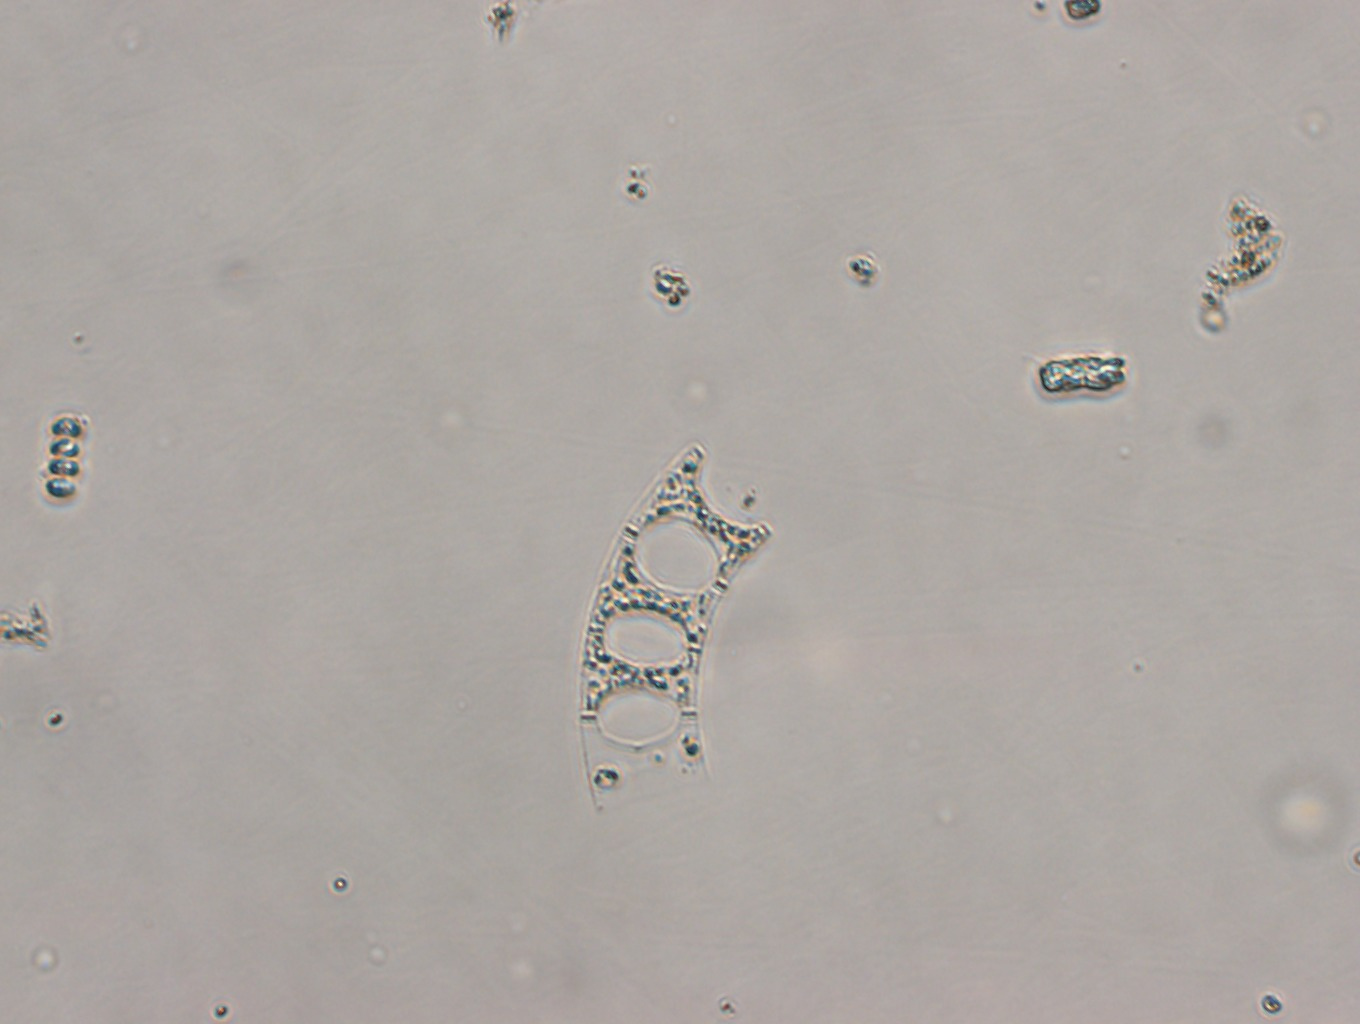eucampia: (578, 442, 778, 820)
skeletonema: (43, 413, 86, 504)
